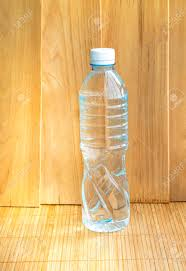plastic_bottle: (75, 45, 138, 235)
